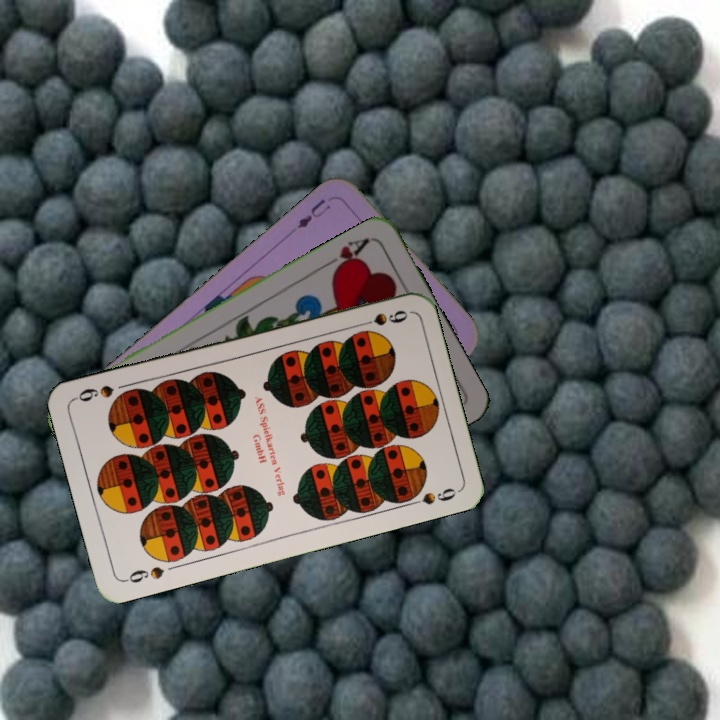EU: (292, 194, 329, 232)
HA: (320, 233, 373, 277)
S9: (352, 306, 411, 330), (120, 562, 167, 586)
